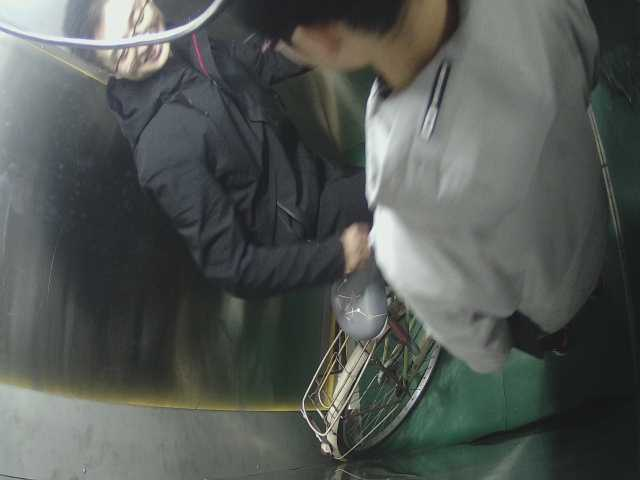bicycle: (291, 252, 462, 463)
person: (247, 3, 622, 382), (71, 1, 377, 302)
